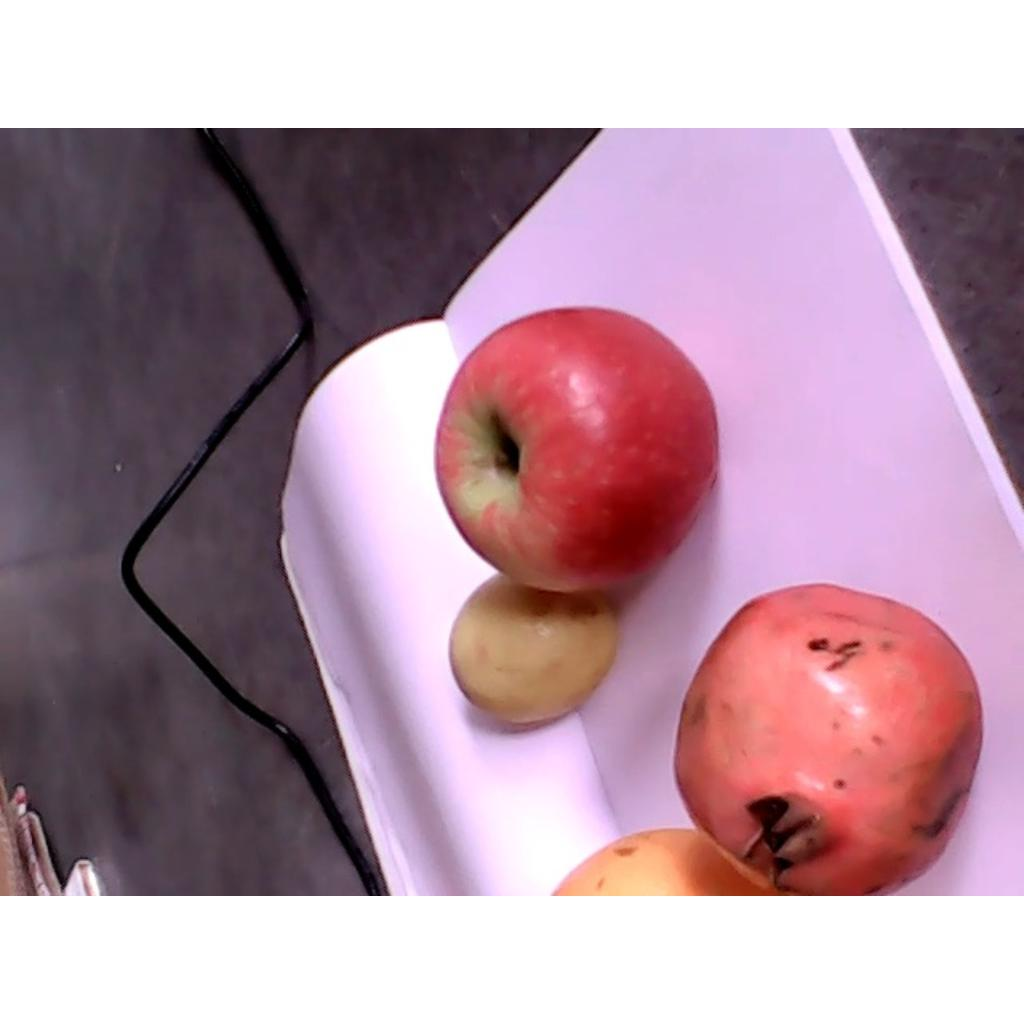apple: (434, 308, 720, 594)
lemon: (449, 573, 620, 723), (551, 826, 764, 894)
pomegranate: (678, 585, 985, 893)
